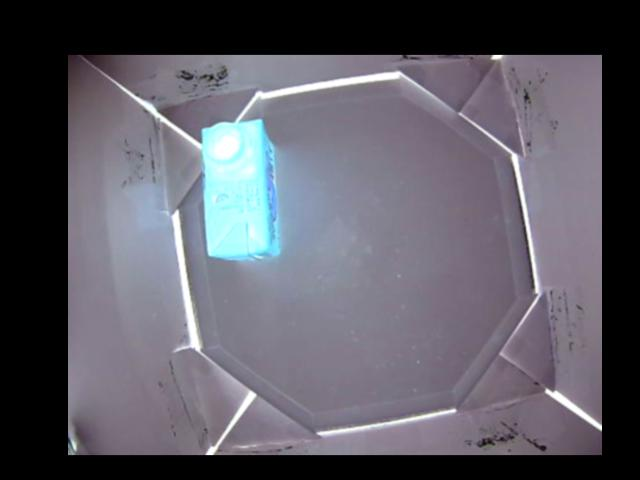Bottle: (199, 117, 280, 260)
